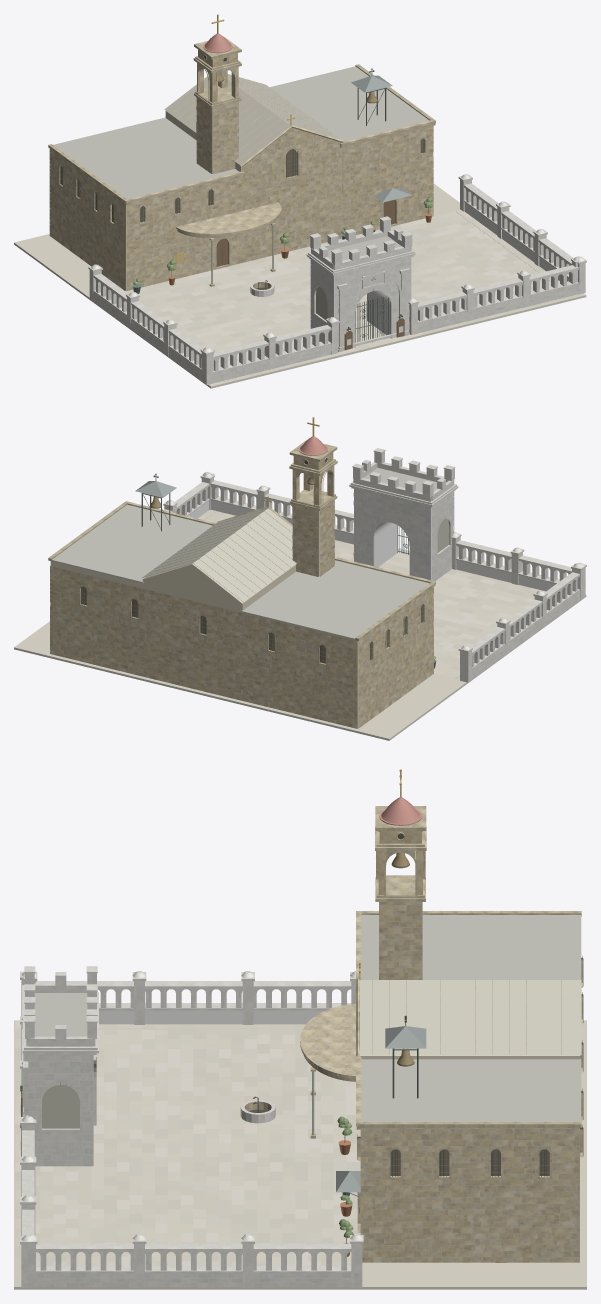
3 views of the same model, one above another, from view 1: azimuth 30°, elevation 25°; view 2: azimuth 150°, elevation 25°; view 3: azimuth 270°, elevation 25° (orthographic). The views are drawn at different scales.
Parts seen in each view (by area): view 1: Courtyard - individually varied paving slabs, Church - side wing flat roof slabs, Church - central nave front ashlar, Church - left wing front ashlar, Church - right wing front ashlar, Church - outer nave side limestone, Courtyard - integral site foundation, Church - boundary short stone balustrade piers, Church - white boundary low ashlar facing, Church - boundary top lintel and coping, Church - boundary square pilasters, Church - left pitched nave roof (+29 smaller); view 2: Church - rear limestone wall, Church - side wing flat roof slabs, Courtyard - individually varied paving slabs, Church - outer nave side limestone, Courtyard - integral site foundation, Church - left pitched nave roof, Church - white entrance portal ashlar facing, Church - boundary short stone balustrade piers, Church - central gabled nave lower body, Church - tower limestone shaft courses, Church - left stone wing, Church - boundary top lintel and coping (+24 smaller); view 3: Courtyard - individually varied paving slabs, Church - outer nave side limestone, Church - side wing flat roof slabs, Church - right pitched nave roof, Courtyard - integral site foundation, Church - boundary top lintel and coping, Church - gatehouse side stone facing, Church - right stone wing, Church - white boundary low ashlar facing, Church - boundary short stone balustrade piers, Church - boundary square pilasters, Church - white boundary solid lower wall (+20 smaller).
Part boxes in pixels (<box>): Courtyard - individually varied paving slabs: <box>126,210,584,385</box>; Church - side wing flat roof slabs: <box>53,66,429,198</box>; Church - central nave front ashlar: <box>241,142,341,262</box>; Church - left wing front ashlar: <box>126,177,241,290</box>; Church - right wing front ashlar: <box>341,125,433,238</box>; Church - outer nave side limestone: <box>49,149,124,290</box>; Courtyard - integral site foundation: <box>14,184,586,388</box>; Church - boundary short stone balustrade piers: <box>96,189,575,371</box>; Church - white boundary low ashlar facing: <box>90,284,579,383</box>; Church - boundary top lintel and coping: <box>93,183,578,358</box>; Church - boundary square pilasters: <box>89,179,585,385</box>; Church - left pitched nave roof: <box>164,75,290,165</box>; Church - rear limestone wall: <box>50,566,356,728</box>; Church - side wing flat roof slabs: <box>51,504,429,639</box>; Courtyard - individually varied paving slabs: <box>198,509,545,679</box>; Church - outer nave side limestone: <box>358,586,433,728</box>; Courtyard - integral site foundation: <box>14,510,586,740</box>; Church - left pitched nave roof: <box>192,508,296,602</box>; Church - white entrance portal ashlar facing: <box>353,489,430,579</box>; Church - boundary short stone balustrade piers: <box>176,486,577,667</box>; Church - central gabled nave lower body: <box>142,564,296,698</box>; Church - tower limestone shaft courses: <box>292,500,334,576</box>; Church - left stone wing: <box>243,595,432,728</box>; Church - boundary top lintel and coping: <box>164,480,579,654</box>; Courtyard - individually varied paving slabs: <box>15,1020,358,1286</box>; Church - outer nave side limestone: <box>360,1128,579,1262</box>; Church - side wing flat roof slabs: <box>361,915,581,1121</box>; Church - right pitched nave roof: <box>360,980,581,1055</box>; Courtyard - integral site foundation: <box>14,1020,586,1289</box>; Church - boundary top lintel and coping: <box>22,981,351,1251</box>; Church - gatehouse side stone facing: <box>28,1055,93,1166</box>; Church - right stone wing: <box>361,1128,579,1262</box>; Church - white boundary low ashlar facing: <box>36,1273,358,1287</box>; Church - boundary short stone balustrade piers: <box>40,989,346,1270</box>; Church - boundary square pilasters: <box>21,980,362,1287</box>; Church - white boundary solid lower wall: <box>36,1010,350,1286</box>.
Size of the model in its own units: 44.64 by 27.18 by 40.
47 materials, 18 textured.
